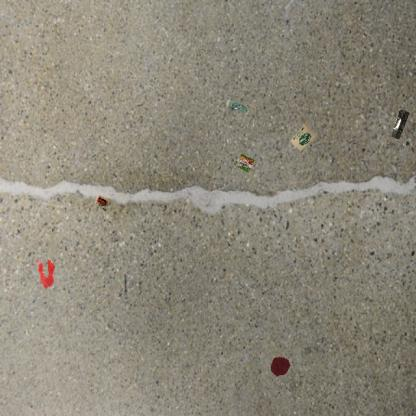dirty: (288, 122, 317, 153), (389, 107, 412, 141), (232, 152, 256, 174), (92, 192, 114, 214), (224, 98, 249, 116)
liquid: (35, 258, 57, 288), (269, 356, 292, 378)
